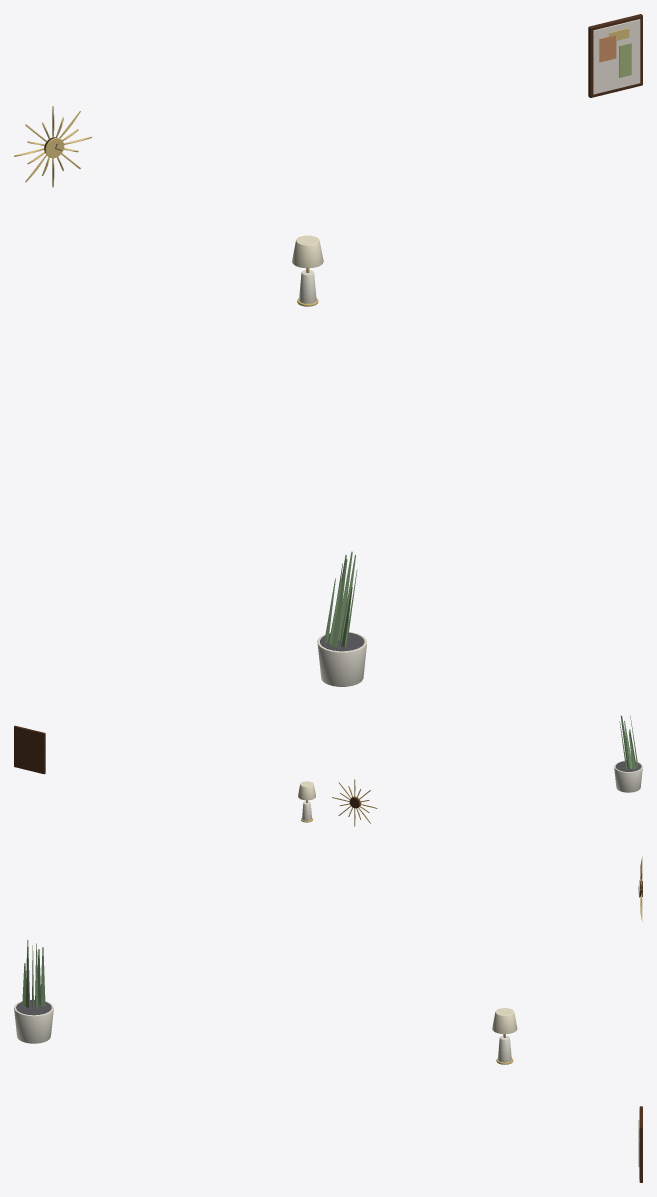
The model's file is interior-prop-accents.glb.
3 renders of one model, top to bottom at view 1: azimuth 30°, elevation 25°; view 2: azimuth 150°, elevation 25°; view 3: azimuth 270°, elevation 25°, orthographic. The views are drawn at different scales.
Parts seen in each view (by area): view 1: wall-art-canvas, snake-plant-pot, wall-art-frame; view 2: wall-art-frame, snake-plant-pot, table-lamp-shade; view 3: snake-plant-pot, table-lamp-shade.
Boxes of the visible parts, x1,y1,x2,y2 form: wall-art-canvas: [593, 19, 640, 94]; snake-plant-pot: [317, 632, 366, 686]; wall-art-frame: [588, 14, 642, 97]; wall-art-frame: [14, 725, 45, 774]; snake-plant-pot: [614, 761, 642, 792]; table-lamp-shade: [298, 781, 315, 800]; snake-plant-pot: [14, 999, 53, 1043]; table-lamp-shade: [492, 1008, 517, 1034].
Bounding box in the file's own units: 6.87 × 2.53 × 6.68.
Materials: 9 (1 with a texture image).
